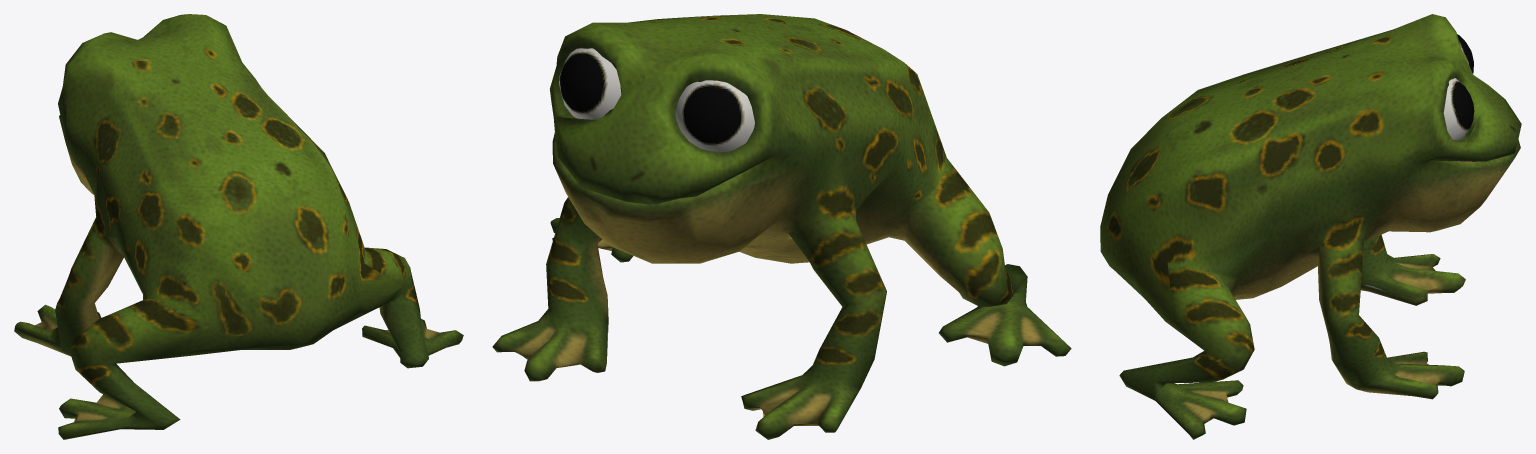
Rendered from plushfrogbert.fbx.
The picture shows the model from 3 angles, left to right: view 1: azimuth 30°, elevation 25°; view 2: azimuth 150°, elevation 25°; view 3: azimuth 270°, elevation 25°; orthographic projection. The views are drawn at different scales.
Visible parts, largest first — view 1: Frogbert.002; view 2: Frogbert.002; view 3: Frogbert.002.
Part boxes in pixels (x1,y1,x2,y2): Frogbert.002: (14,14,463,439); Frogbert.002: (492,14,1071,439); Frogbert.002: (1100,14,1521,439).
Size of the model in its own units: 0.4463 by 0.2979 by 0.3822.
